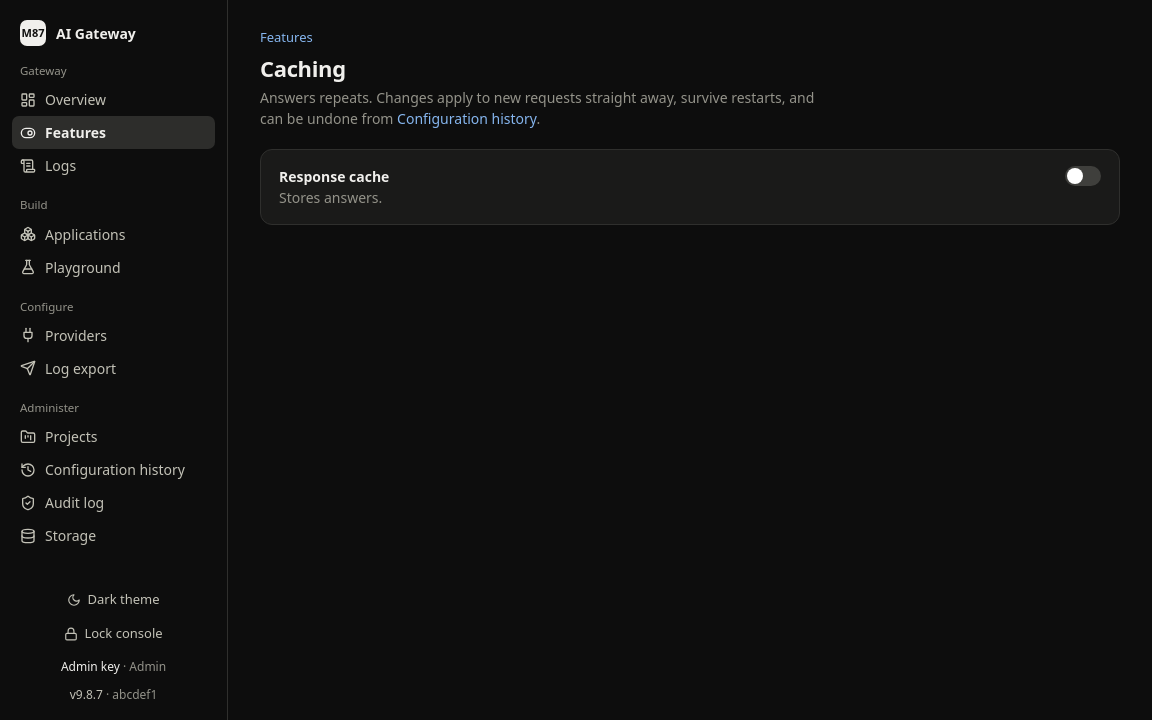
Test: features › turns a feature on with the version it loaded
Click the switch named "Response cache" at (1083, 176), box top-left (1065, 166), bottom-right (1101, 186)
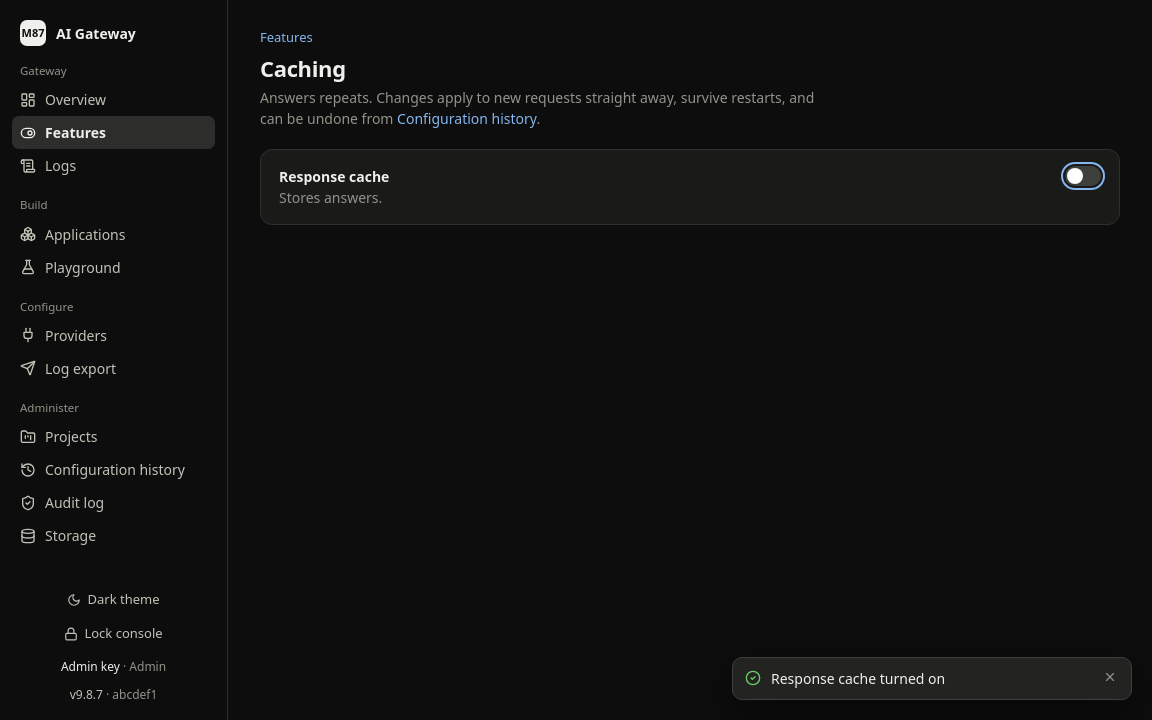
expect the text "Response cache turned on" is shown: met, box top-left (771, 669), bottom-right (945, 688)
